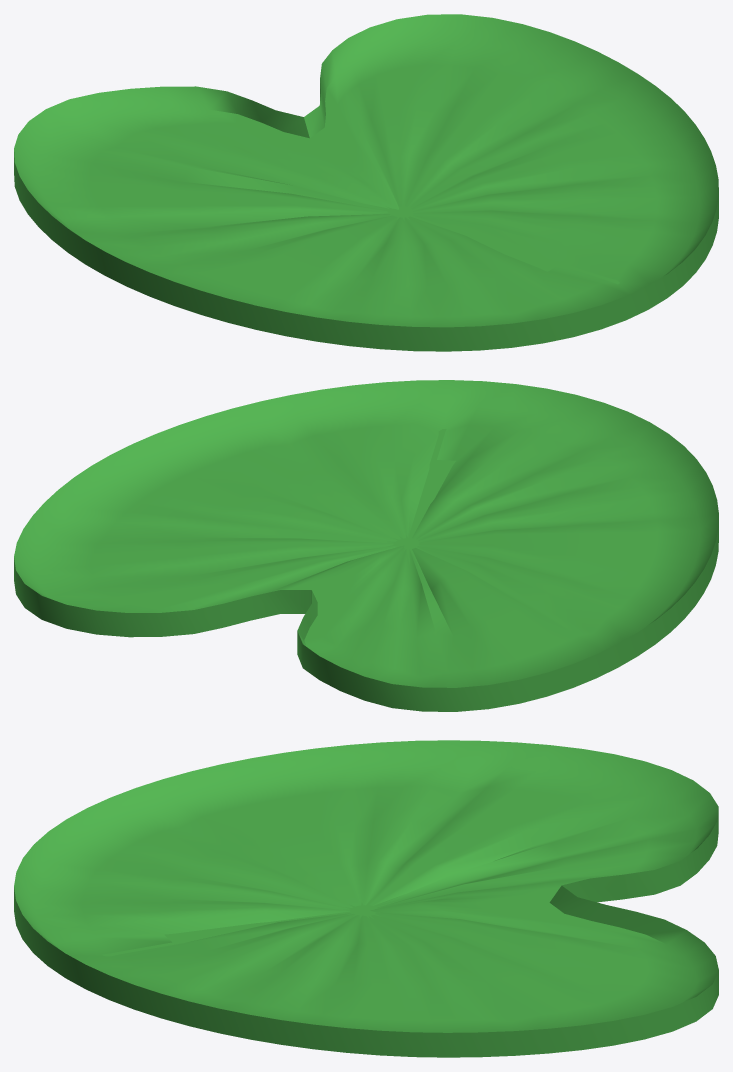
File: Seerosenblatt4.fbx
3 renders of one model, top to bottom at view 1: azimuth 30°, elevation 25°; view 2: azimuth 150°, elevation 25°; view 3: azimuth 270°, elevation 25°, orthographic. The views are drawn at different scales.
Parts seen in each view (by area): view 1: Extrudieren; view 2: Extrudieren; view 3: Extrudieren.
Part boxes in pixels (x1,y1,x2,y2): Extrudieren: (14, 14, 718, 351); Extrudieren: (14, 380, 718, 711); Extrudieren: (14, 740, 718, 1057).
Size of the model in its own units: 380 by 15.67 by 387.
